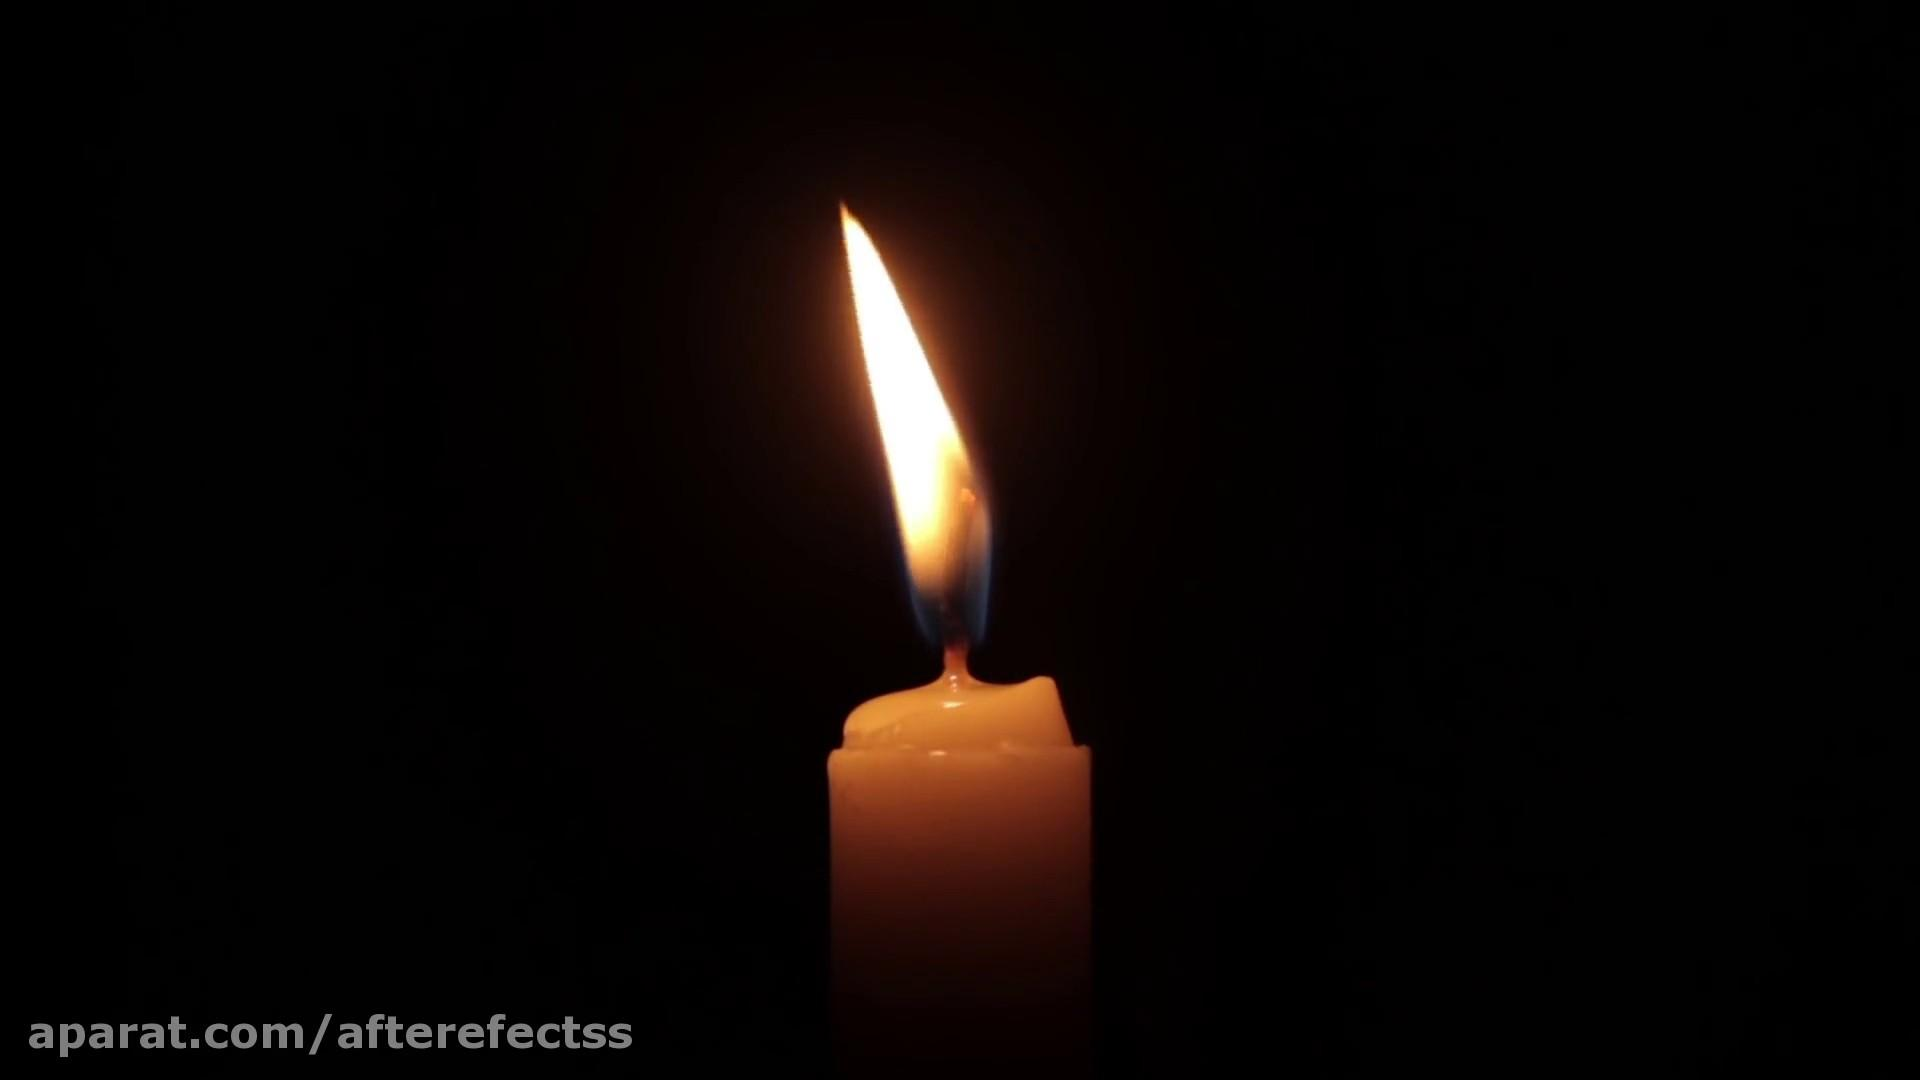fire: (819, 183, 1031, 638)
